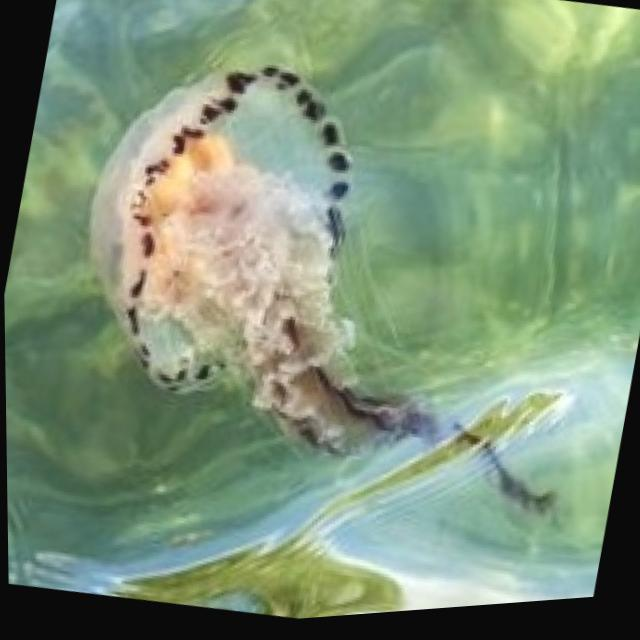Box-jellyfish: (48, 19, 505, 497)
